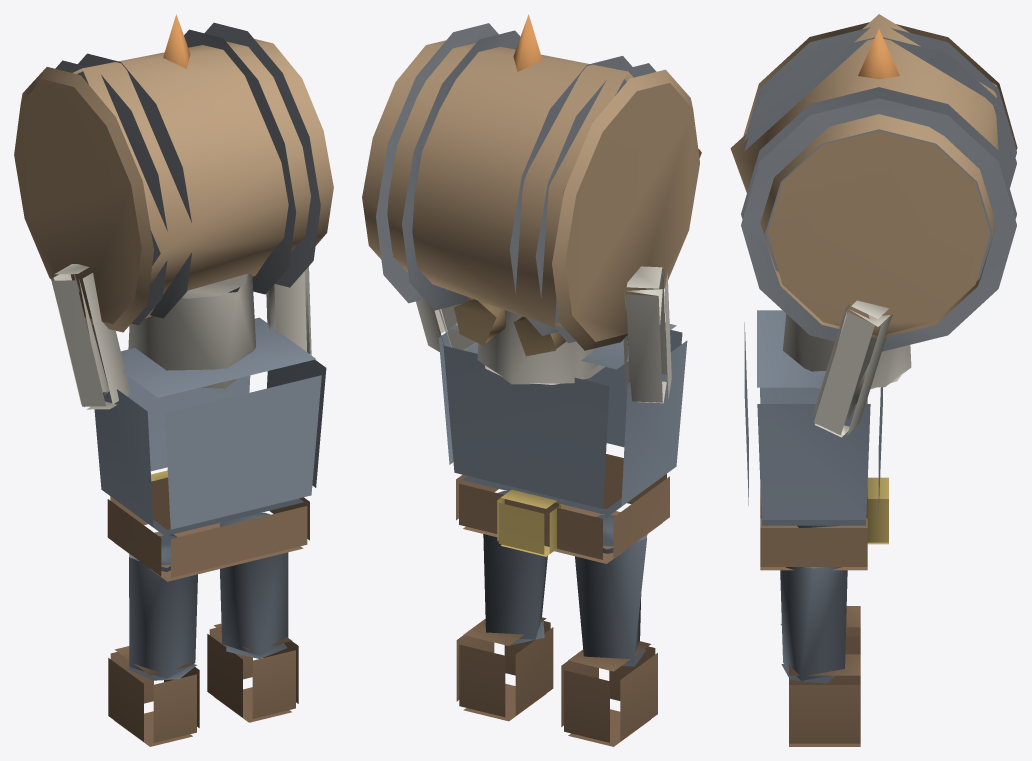
Rendered from thesis_breaker_lod2.glb.
The picture shows the model from 3 angles, left to right: view 1: azimuth 30°, elevation 25°; view 2: azimuth 150°, elevation 25°; view 3: azimuth 270°, elevation 25°; orthographic projection. The views are drawn at different scales.
Parts seen in each view (by area): view 1: thesis_breaker.001; view 2: thesis_breaker.001; view 3: thesis_breaker.001.
Part boxes in pixels (x1,y1,x2,y2): thesis_breaker.001: [14, 14, 333, 746]; thesis_breaker.001: [362, 14, 701, 746]; thesis_breaker.001: [730, 14, 1017, 746].
Bounding box in the file's own units: 0.7183 × 1.85 × 0.7059.
